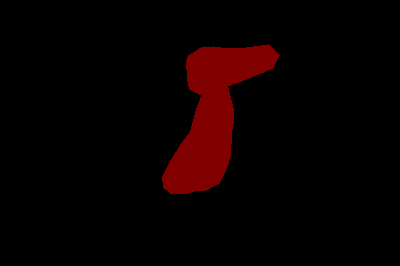fire: (162, 44, 279, 193)
